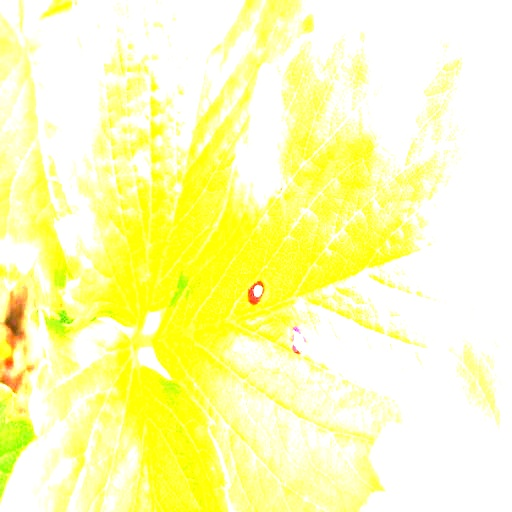Leaf Spot: (149, 11, 511, 511), (46, 0, 319, 333)
